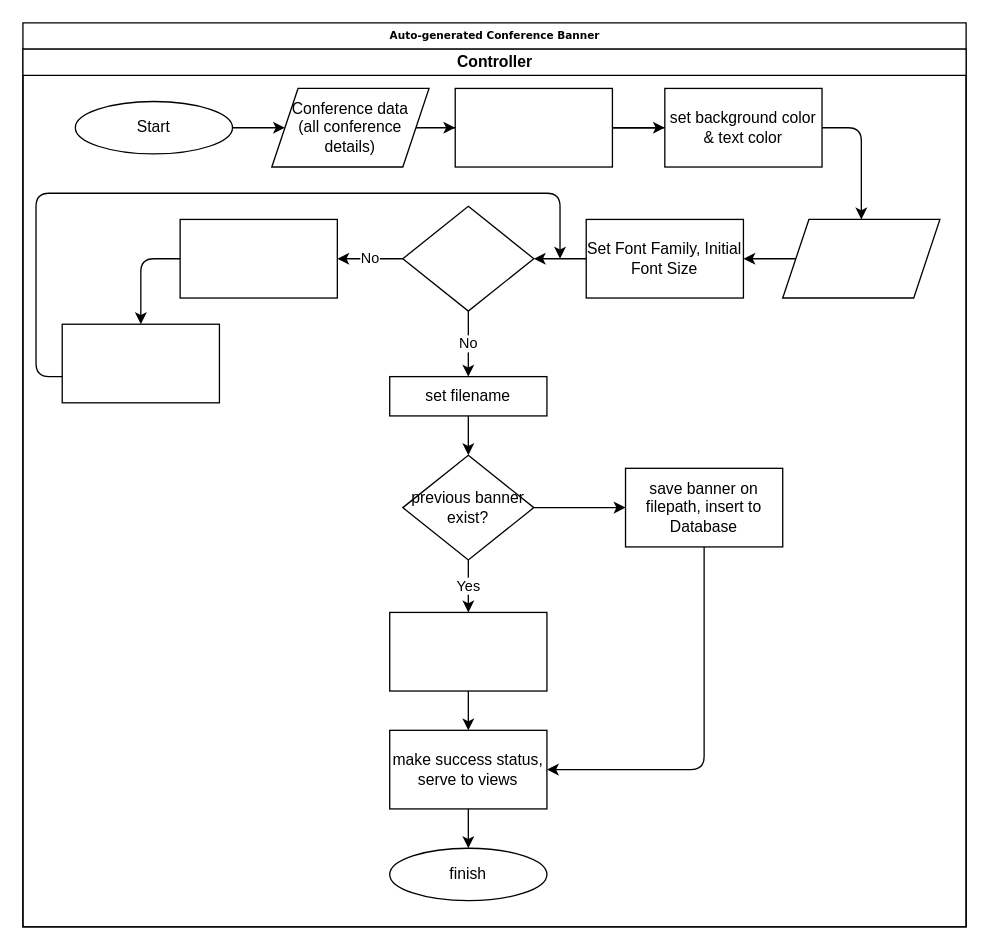
The diagram is 989 pixels wide and 950 high, and some of its shapes have lost their labels. Here are the shapes that lost their labels. From the top down, the centre of each, then its label:
point 533,127: set text container width and height setting (default: 3000 x 300)
point 258,258: set position x/y, margin, align, font size
point 468,258: conference detail iteration finish?
point 860,258: load template banner image (png)
point 140,363: write into template
point 467,651: overwrite previous banner, update to Database
